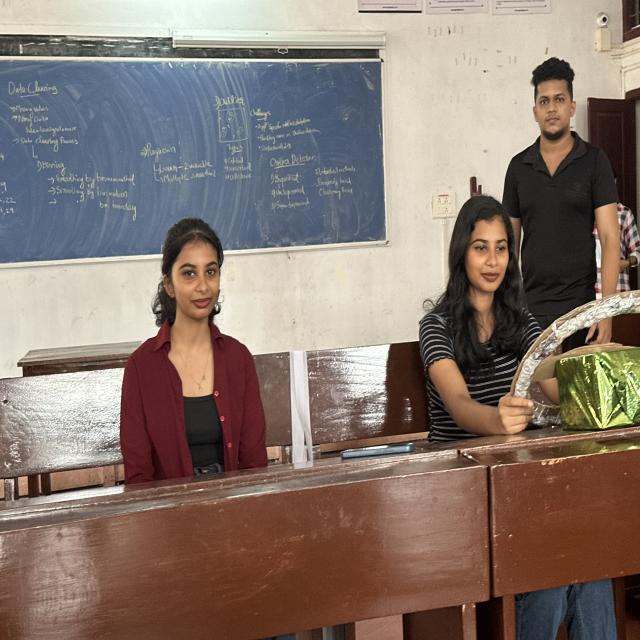no-seatbelt: (114, 284, 294, 507), (415, 267, 589, 475)
